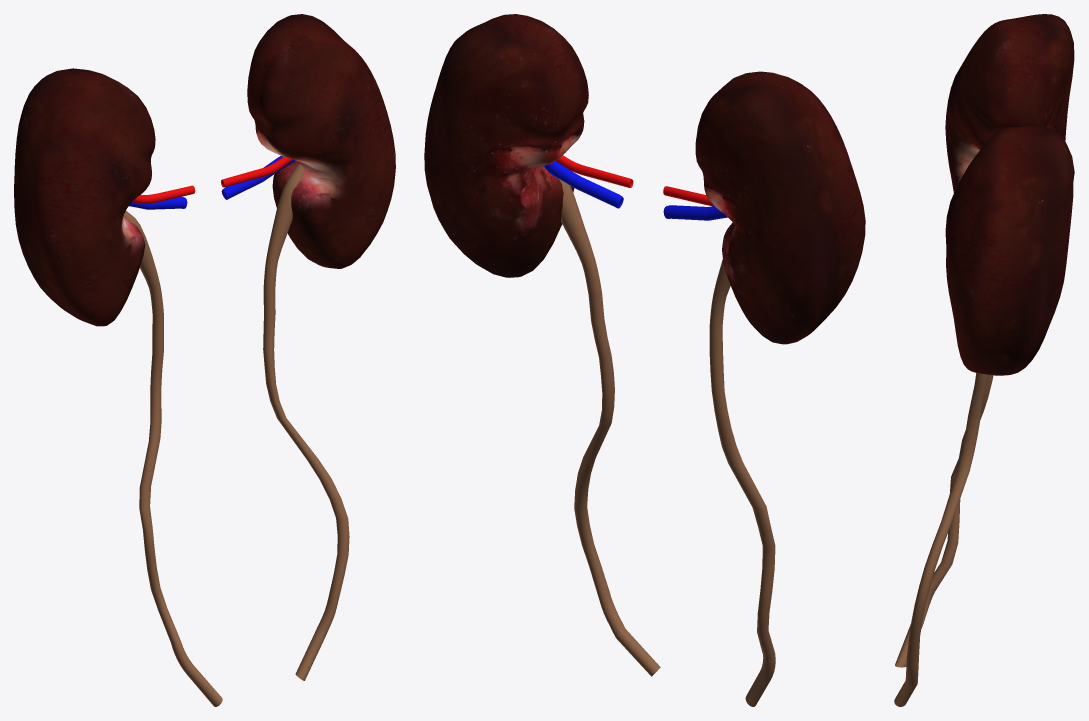
Rendered from kidney.glb.
3 renders of one model, left to right at view 1: azimuth 30°, elevation 25°; view 2: azimuth 150°, elevation 25°; view 3: azimuth 270°, elevation 25°, orthographic. The views are drawn at different scales.
Parts seen in each view (by area): view 1: Kidney, KidneyArtery; view 2: Kidney, KidneyArtery; view 3: Kidney, KidneyArtery.
Part boxes in pixels (bbox=[...]): Kidney: bbox=[14, 14, 395, 326]; KidneyArtery: bbox=[123, 156, 349, 706]; Kidney: bbox=[424, 14, 865, 344]; KidneyArtery: bbox=[544, 155, 775, 706]; Kidney: bbox=[945, 14, 1074, 375]; KidneyArtery: bbox=[894, 373, 993, 706].
Size of the model in its own units: 14.64 by 23.83 by 6.36.
Materials: 4 (1 with a texture image).
